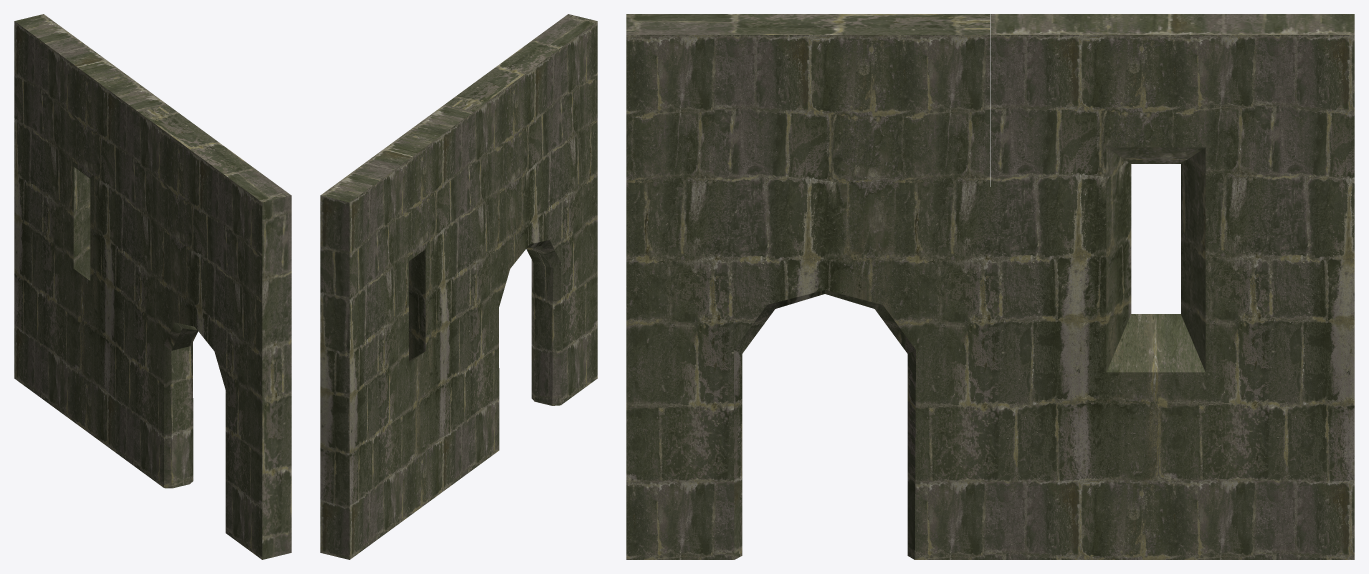
File: Wall_Doorway+Arrowslit.fbx
3 views of the same model, side by side, from view 1: azimuth 30°, elevation 25°; view 2: azimuth 150°, elevation 25°; view 3: azimuth 270°, elevation 25° (orthographic). The views are drawn at different scales.
Visible parts, largest first — view 1: Door+Arrowslit; view 2: Door+Arrowslit; view 3: Door+Arrowslit.
Boxes of the visible parts, bbox=[...] form: Door+Arrowslit: bbox=[14, 14, 291, 559]; Door+Arrowslit: bbox=[320, 14, 597, 559]; Door+Arrowslit: bbox=[626, 14, 1354, 559].
Bounding box in the file's own units: 51 × 595 × 748.
